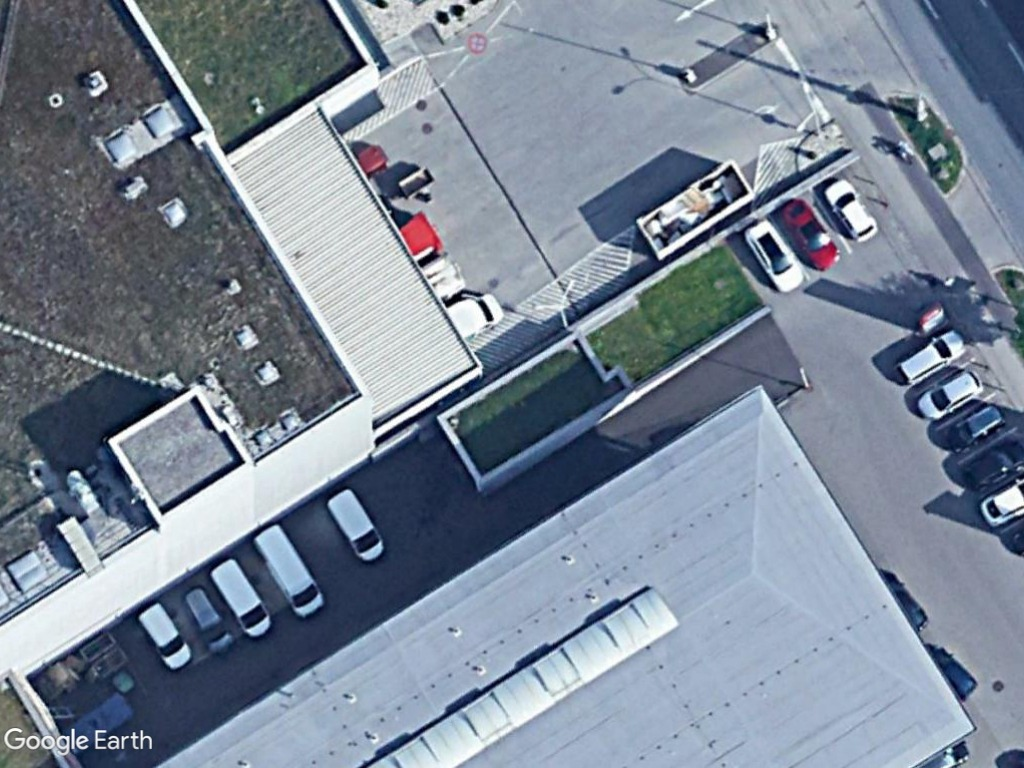car: (738, 220, 810, 293), (776, 194, 841, 273), (894, 327, 967, 386), (823, 174, 878, 248), (915, 365, 985, 422), (943, 400, 1008, 457)
van: (248, 525, 328, 623), (322, 486, 388, 568), (209, 559, 274, 638), (131, 601, 194, 671), (176, 583, 236, 655)
